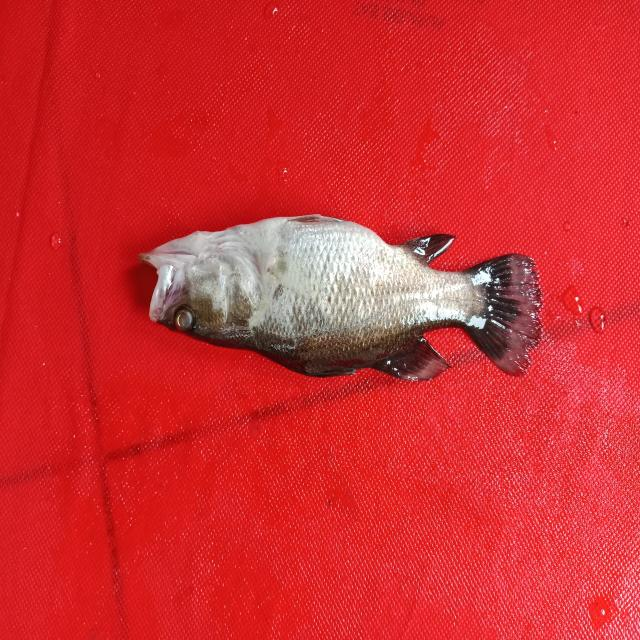ikan: (123, 192, 554, 402)
